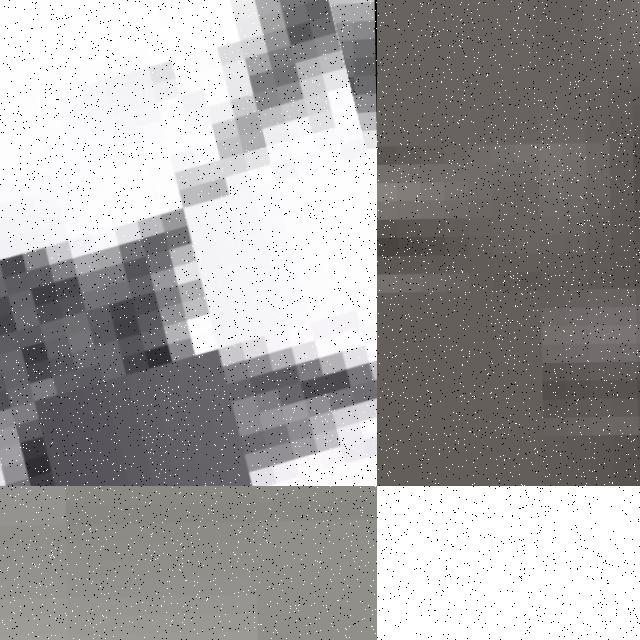drone: (0, 0, 377, 486)
